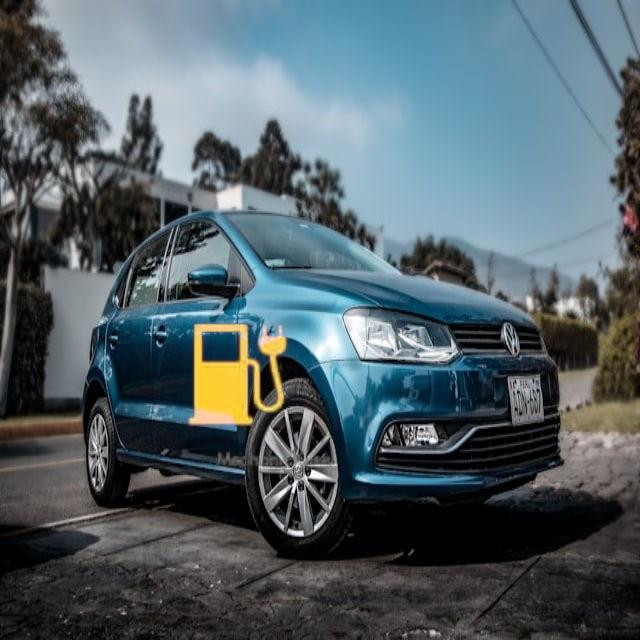symbol: (138, 276, 338, 476)
